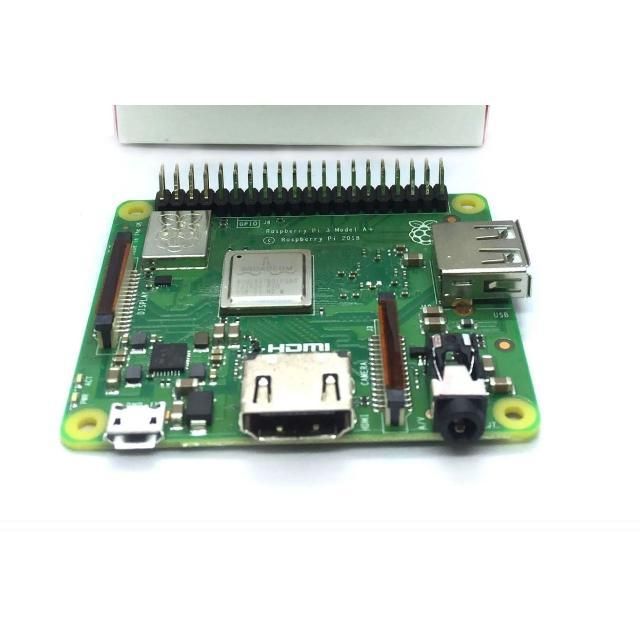Raspberry-Pi-3-A-: (62, 159, 540, 451)
